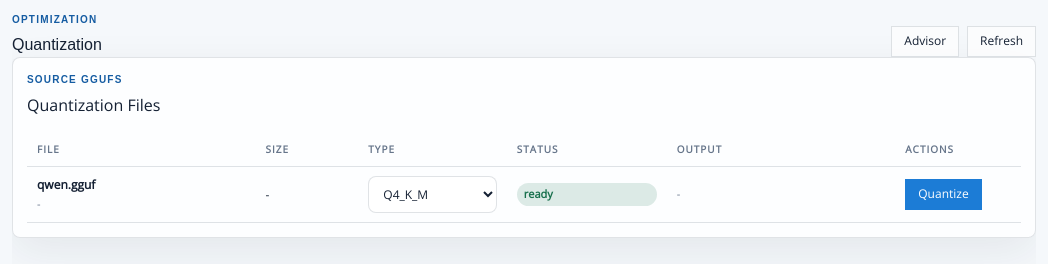
Test case: starts quantization with the selected type
Select "Q5_K_M" in the dropdown named "Quant type for qwen.gguf": (433, 194) [368,176,497,213]
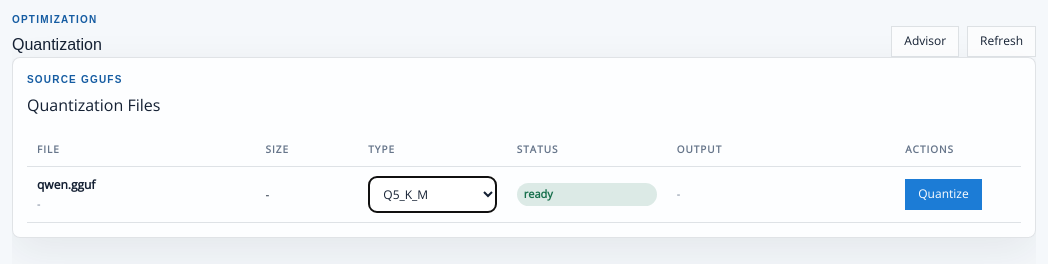
Click the button with aria-label "Quantize qwen.gguf": (944, 194) [905,179,982,210]
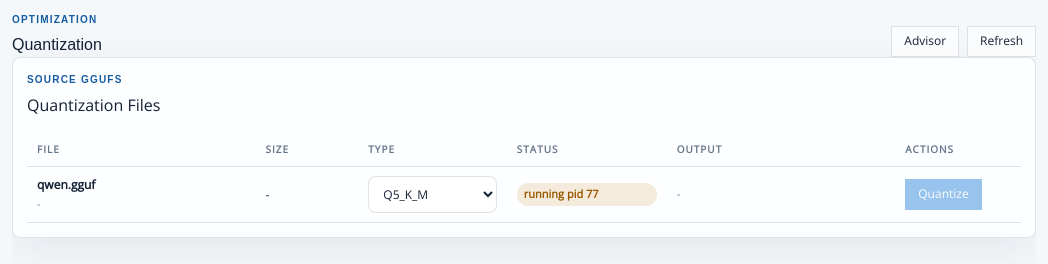
Result: the text "running pid 77" is shown at [517,183,657,206]
